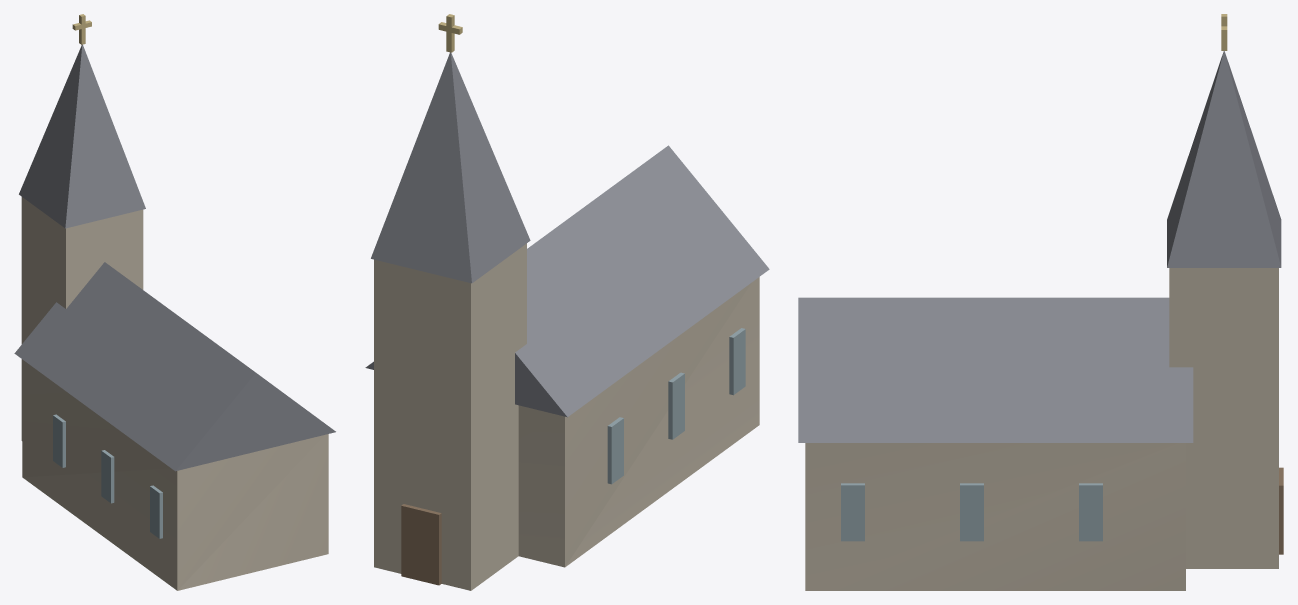
3 views of the same model, side by side, from view 1: azimuth 30°, elevation 25°; view 2: azimuth 150°, elevation 25°; view 3: azimuth 270°, elevation 25° (orthographic). The views are drawn at different scales.
Parts seen in each view (by area): view 1: architecture.church; view 2: architecture.church; view 3: architecture.church.
Boxes of the visible parts, x1,y1,x2,y2 form: architecture.church: (14,14,335,590); architecture.church: (365,14,769,590); architecture.church: (798,14,1283,590).
Size of the model in its own units: 9.6 by 24.6 by 20.4.
